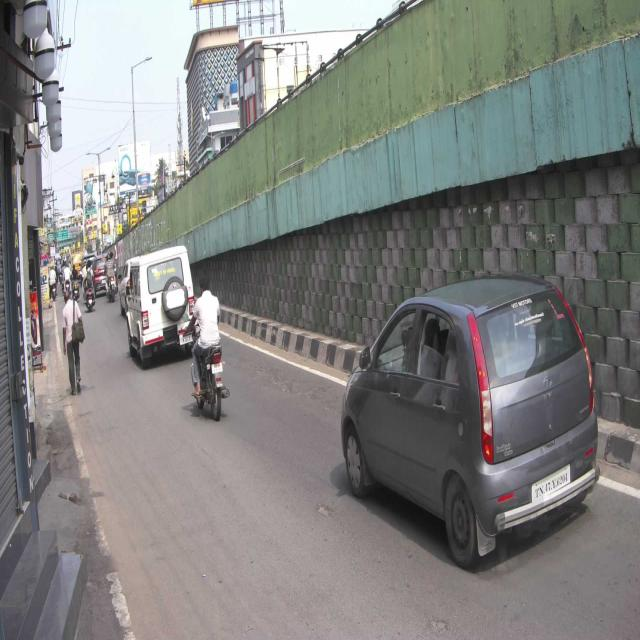single_rider: (183, 273, 232, 422)
